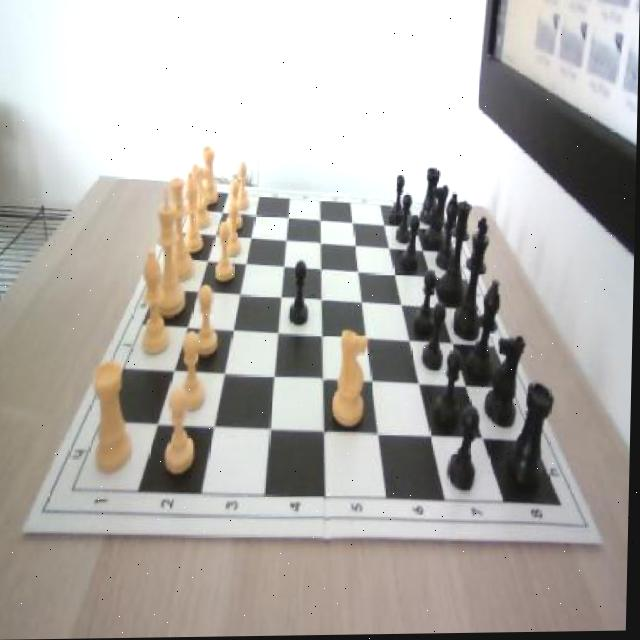bishop: (469, 280, 503, 379), (438, 192, 461, 269)
black-bishop: (452, 217, 491, 341)
black-king: (485, 337, 528, 429), (425, 184, 451, 248)
black-knight: (450, 405, 481, 493), (436, 348, 463, 434), (414, 269, 438, 339), (424, 304, 447, 372), (290, 258, 311, 327), (403, 218, 421, 274), (390, 177, 407, 229), (397, 195, 414, 244)
black-pawn: (441, 202, 473, 303)
black-queen: (510, 384, 555, 498), (420, 169, 440, 226)
black-rook: (140, 250, 172, 355), (183, 173, 206, 252)
white-bishop: (154, 186, 188, 315)
white-king: (332, 326, 370, 428), (188, 162, 213, 232)
white-knight: (164, 389, 199, 478), (182, 333, 213, 416), (194, 284, 221, 355), (216, 223, 238, 284), (225, 202, 245, 258), (228, 179, 244, 232), (236, 160, 250, 210)
white-pawn: (169, 179, 198, 284)
white-queen: (92, 361, 135, 474), (201, 146, 221, 207)
